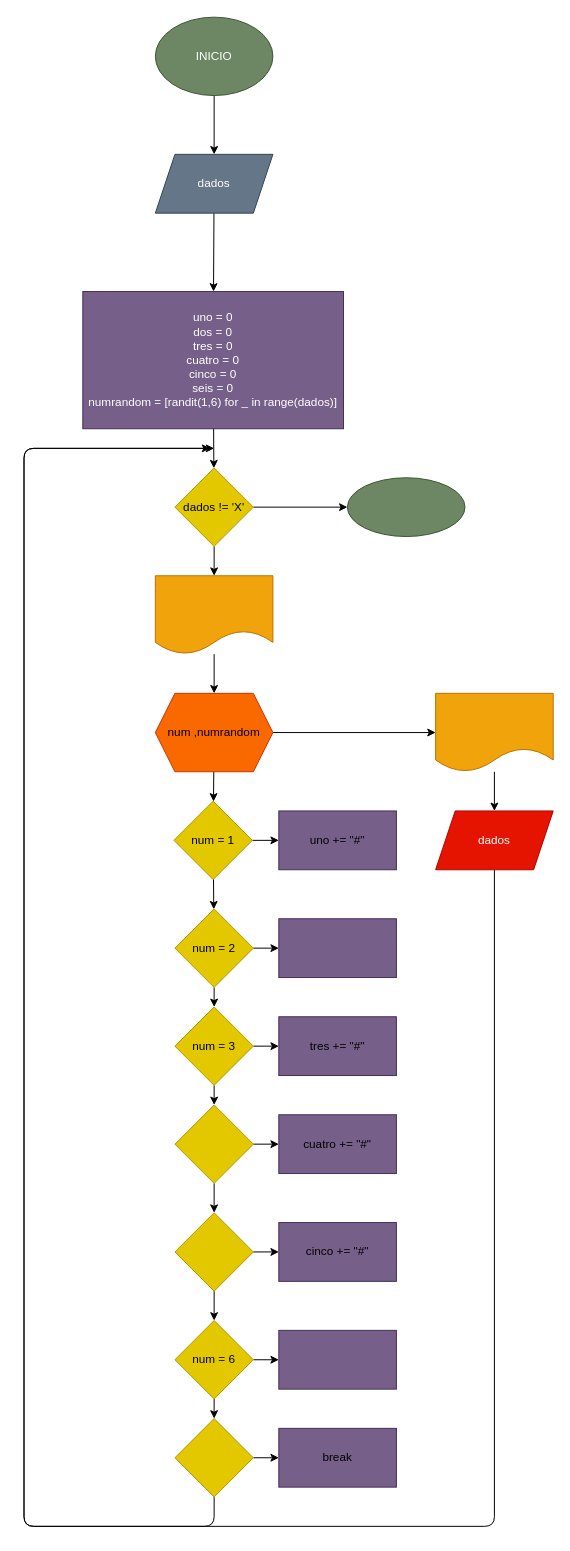
The diagram is 570 pixels wide and 1551 high, and some of its shapes have lost their labels. Here are the shapes that lost their labels. From the top down, the centre of each, then its label:
[405,507]: FIN
[213,614]: numrandom
[494,732]: uno,dos,tres,cuatro, cinco,seis
[337,948]: dos += "#"
[213,1143]: num = 4
[213,1251]: num = 5
[337,1359]: seis += "#"
[213,1457]: num = 'X'
